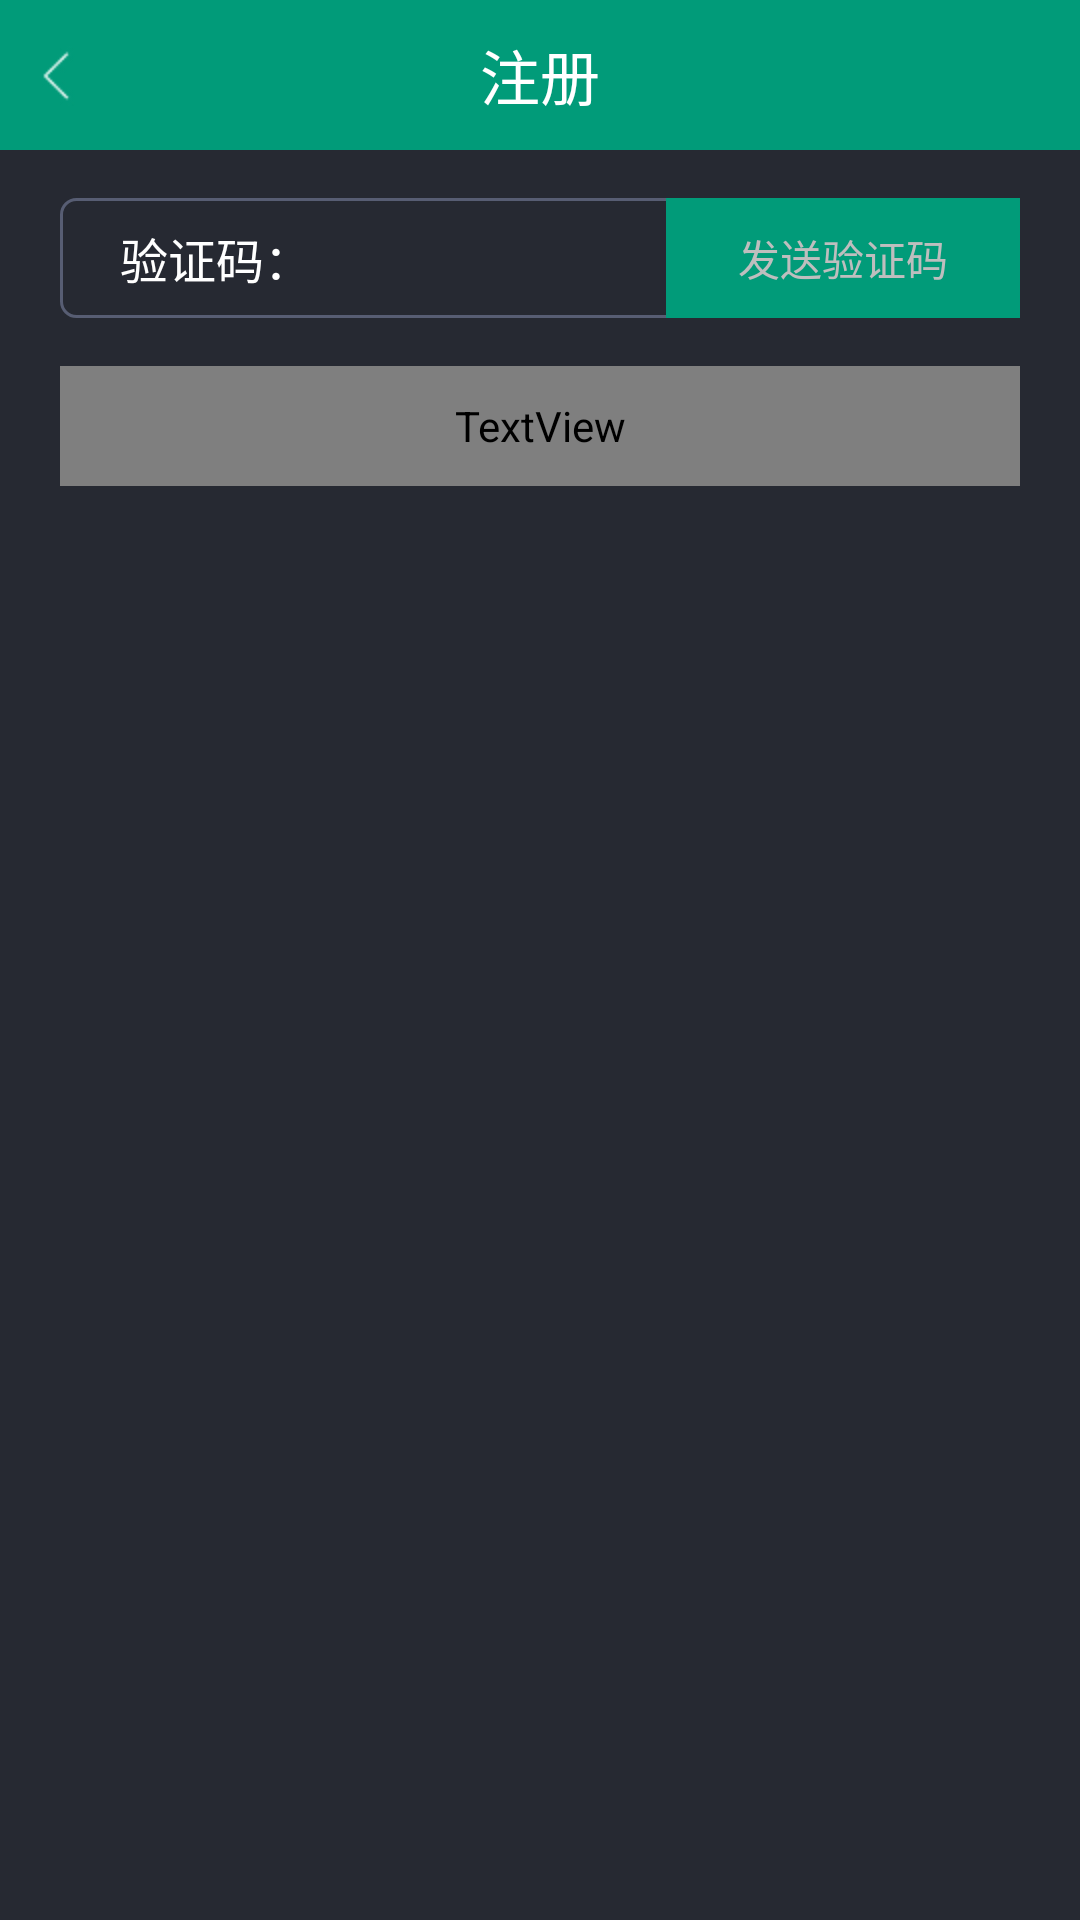

Named icons in this screenshot (1080x1920) and their centers, (x,y):
back: (56,76)
